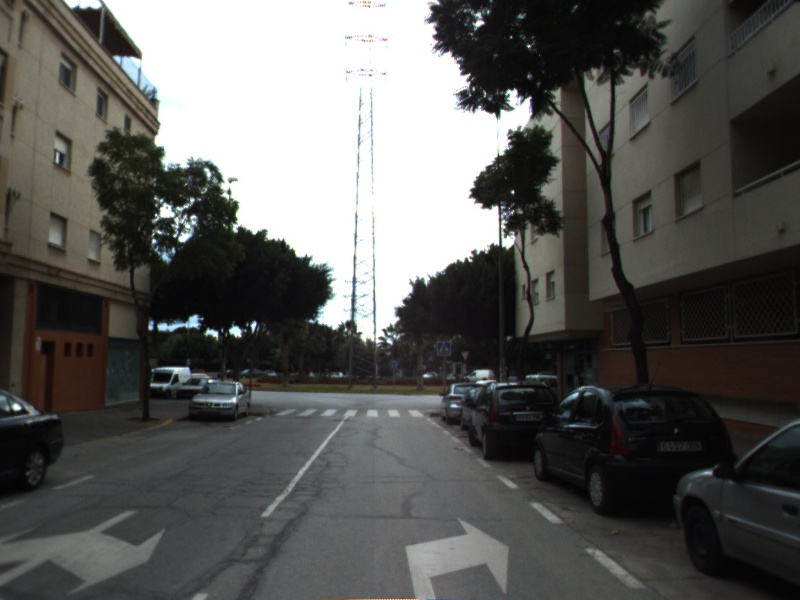RIGHT: (402, 513, 512, 600)
